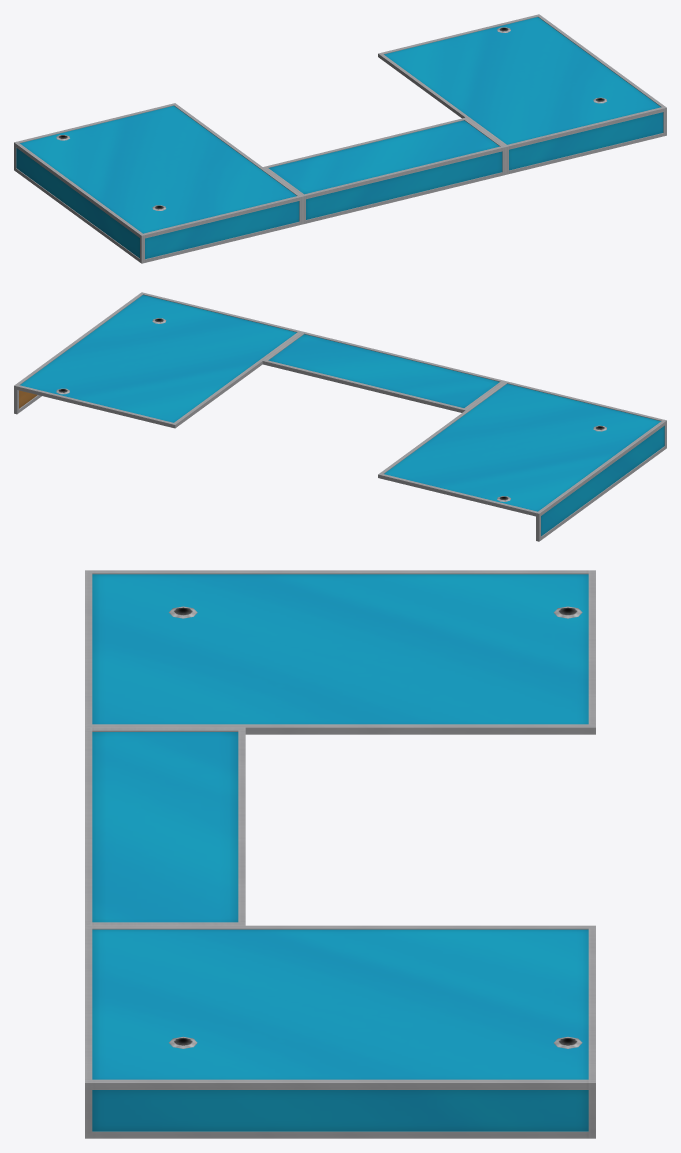
Rendered from jsf_4P_s02_c02_t02_DX.fbx.
3 renders of one model, top to bottom at view 1: azimuth 30°, elevation 25°; view 2: azimuth 150°, elevation 25°; view 3: azimuth 270°, elevation 25°, orthographic. The views are drawn at different scales.
Parts seen in each view (by area): view 1: jsf_4P_s02_c02_t02_DX; view 2: jsf_4P_s02_c02_t02_DX; view 3: jsf_4P_s02_c02_t02_DX.
Part boxes in pixels (box(x1,y1,x2,y2)): jsf_4P_s02_c02_t02_DX: box(14, 14, 666, 263); jsf_4P_s02_c02_t02_DX: box(14, 292, 666, 541); jsf_4P_s02_c02_t02_DX: box(85, 570, 595, 1138).
Size of the model in its own units: 246 by 12.99 by 104.
